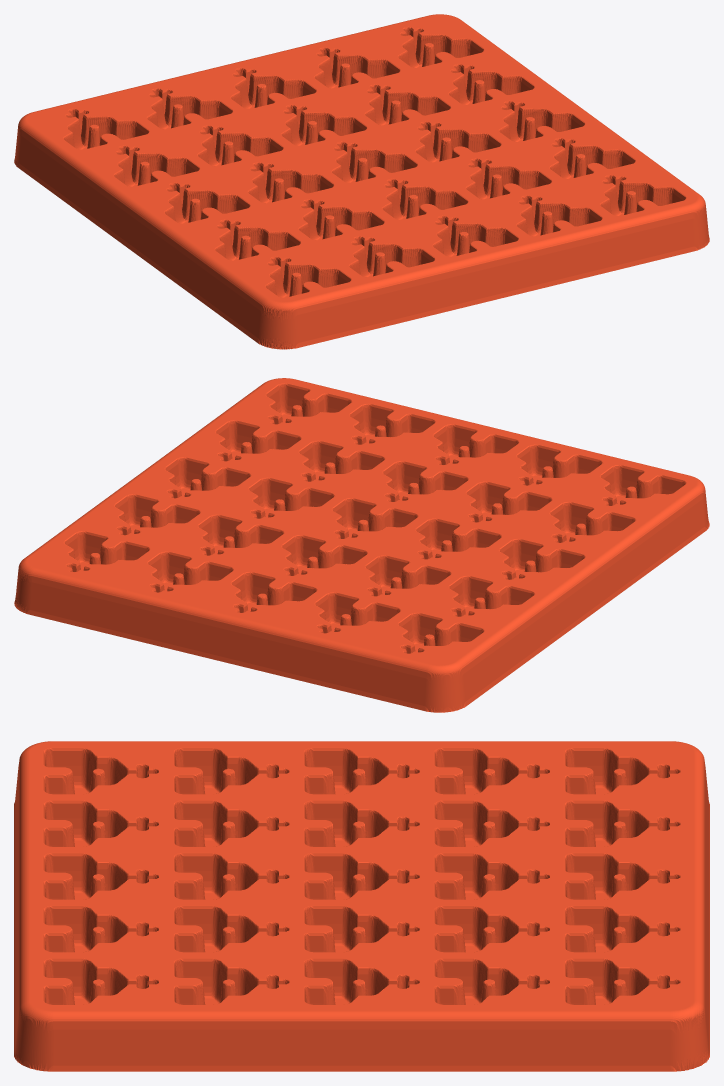
Rendered from mold.glb.
The picture shows the model from 3 angles, top to bottom: view 1: azimuth 30°, elevation 25°; view 2: azimuth 150°, elevation 25°; view 3: azimuth 270°, elevation 25°; orthographic projection. The views are drawn at different scales.
Visible parts, largest first — view 1: geometry_0; view 2: geometry_0; view 3: geometry_0.
Boxes of the visible parts, bbox=[...] form: geometry_0: bbox=[14, 14, 709, 349]; geometry_0: bbox=[14, 378, 709, 712]; geometry_0: bbox=[14, 741, 709, 1071].
Bounding box in the file's own units: 0.1519 × 0.0136 × 0.1584.
